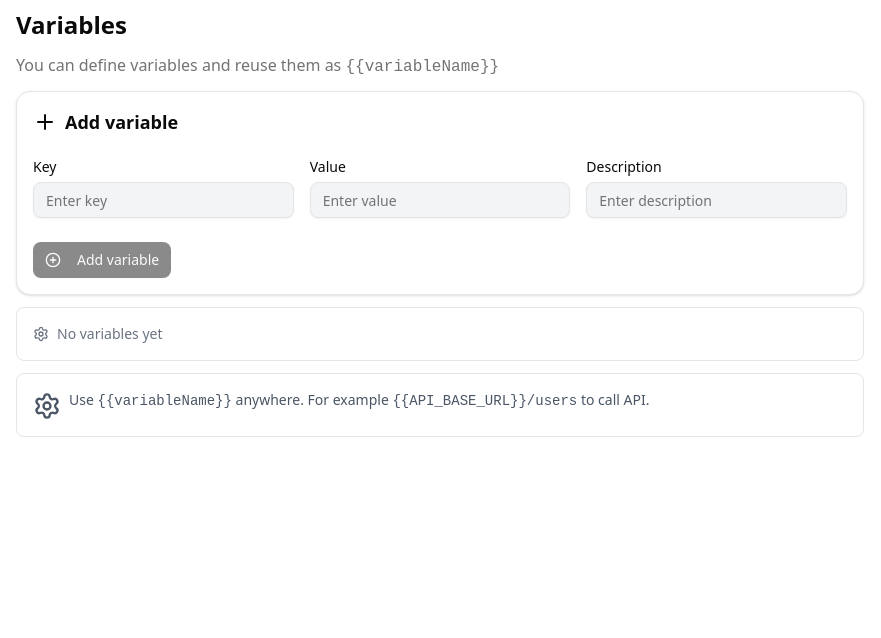
Test: VariablesPage › counter variables
Type "A" into the field labelled "Key" at (163, 200), box [33,182,294,218]
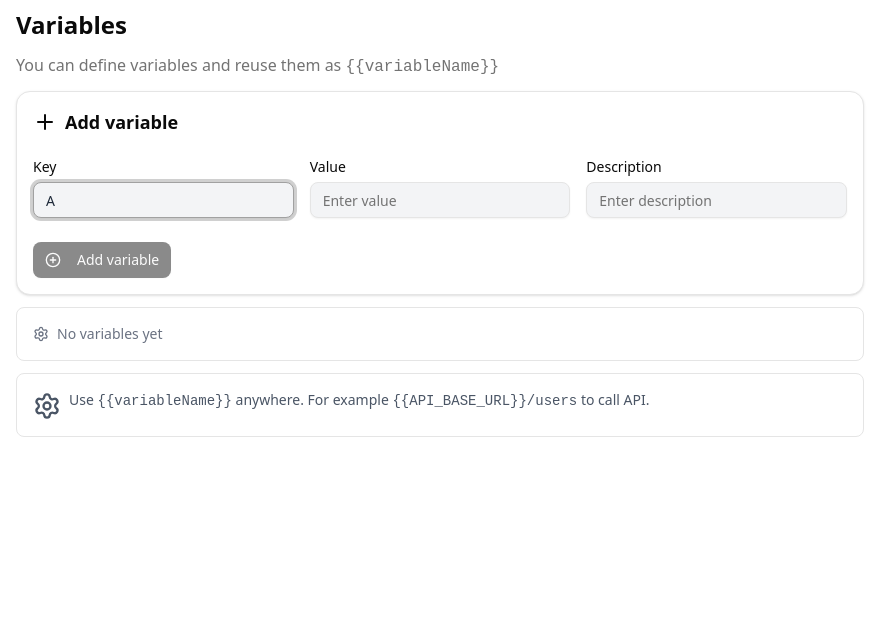
Type "1" into the field labelled "Value" at (440, 200), box [310,182,570,218]
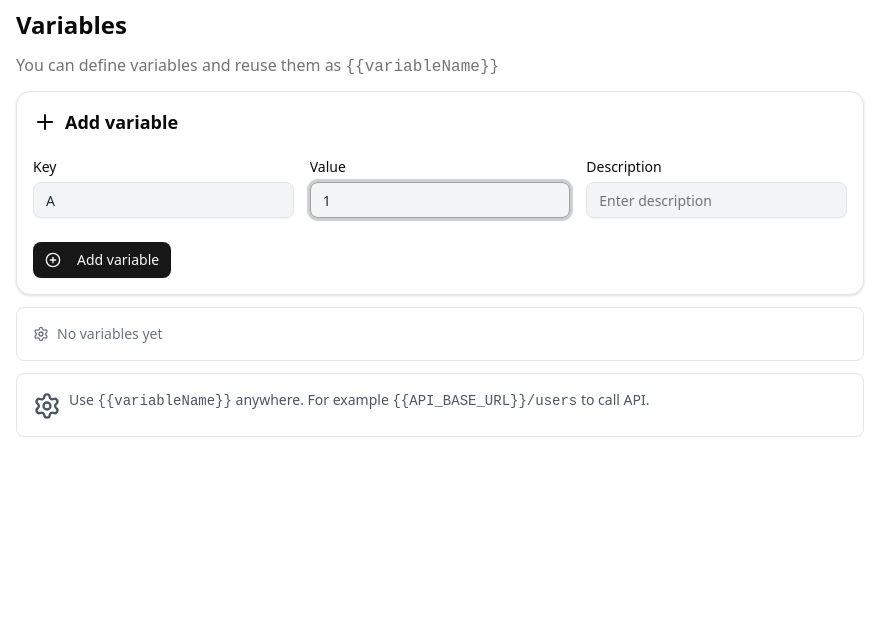
Click the button "Add variable" at (102, 260), box [33,242,171,278]
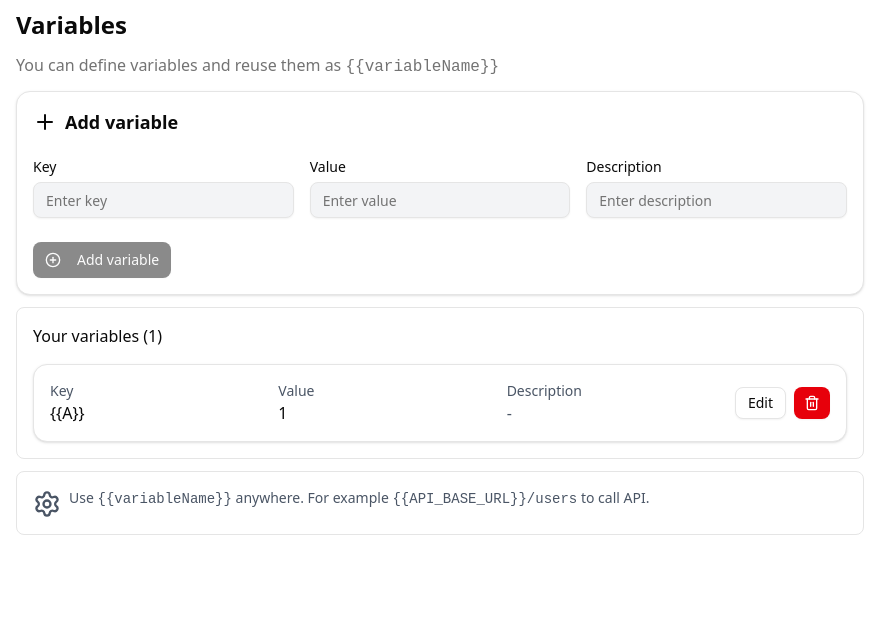
Type "B" into the field labelled "Key" at (163, 200), box [33,182,294,218]
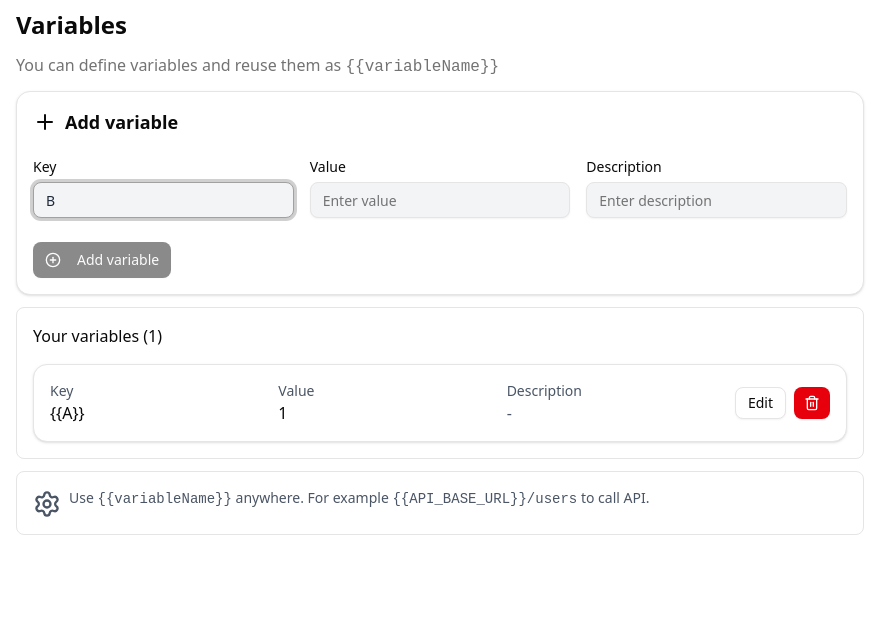
Type "2" into the field labelled "Value" at (440, 200), box [310,182,570,218]
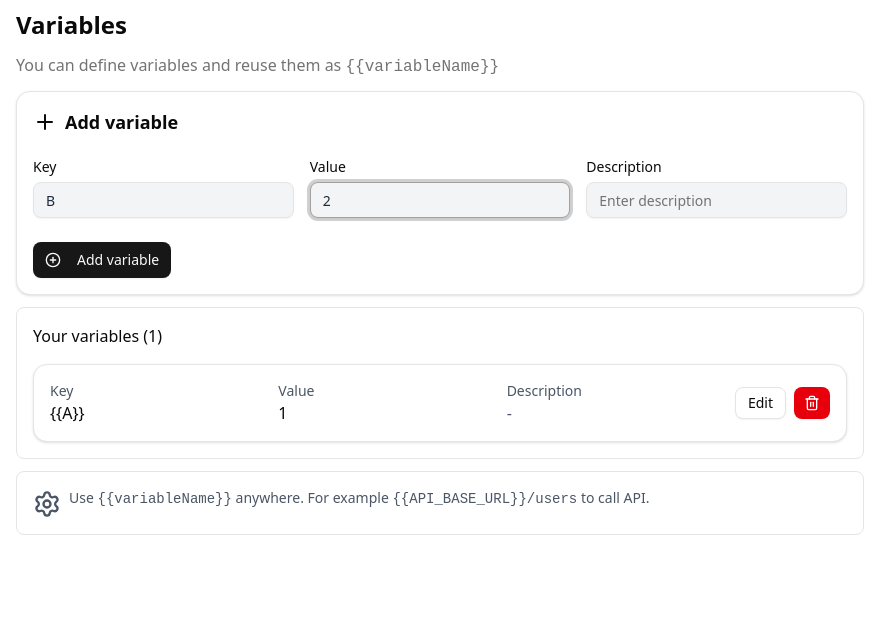
Click the button "Add variable" at (102, 260), box [33,242,171,278]
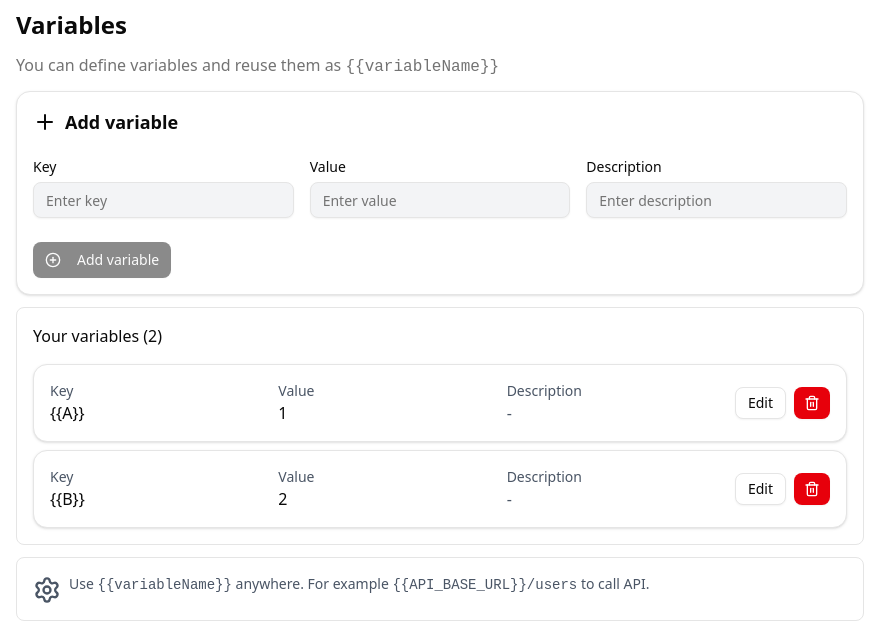
Expected: the heading "Your variables (2)" is shown, [33,325,162,347]
